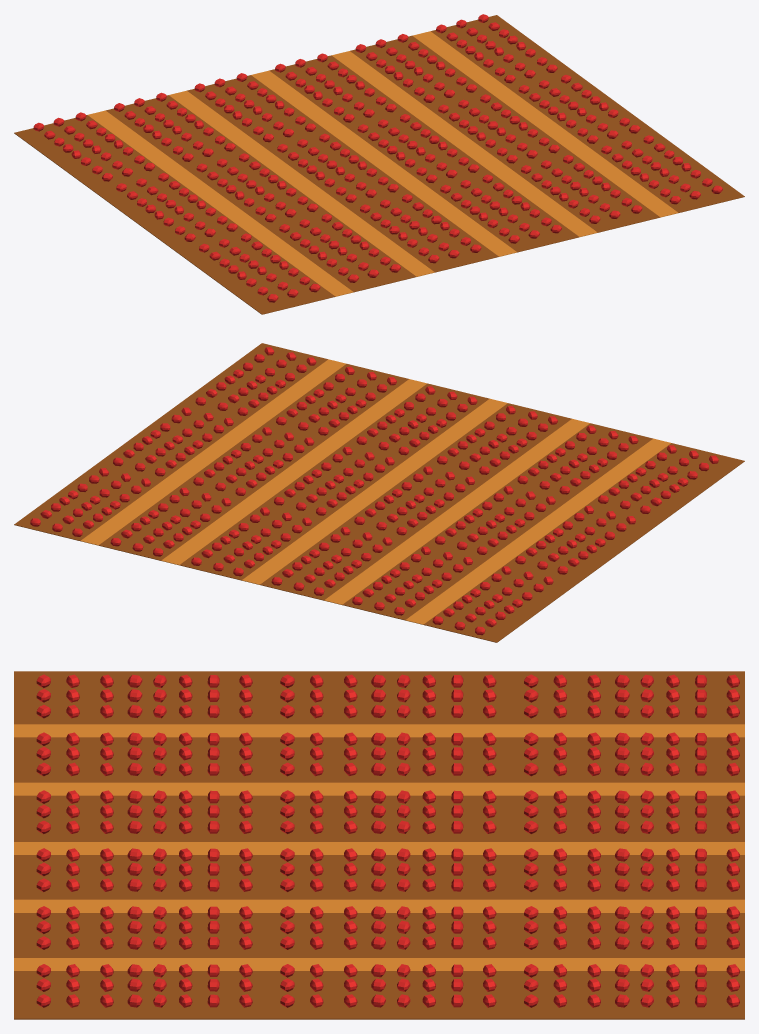
Rendered from tomato.fbx.
The picture shows the model from 3 angles, top to bottom: view 1: azimuth 30°, elevation 25°; view 2: azimuth 150°, elevation 25°; view 3: azimuth 270°, elevation 25°; orthographic projection. The views are drawn at different scales.
Visible parts, largest first — view 1: tomates.003; view 2: tomates.003; view 3: tomates.003.
Part boxes in pixels (left/top/right/bottom): tomates.003: left=14, top=14, right=744, bottom=314; tomates.003: left=14, top=343, right=744, bottom=642; tomates.003: left=14, top=671, right=744, bottom=1019.
Bounding box in the file's own units: 10.99 × 9.77 × 0.1543.
